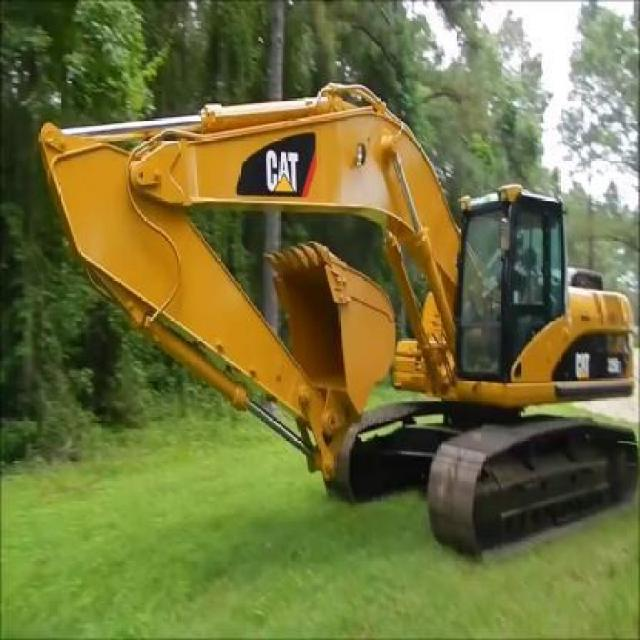Excavator: (37, 82, 640, 556)
